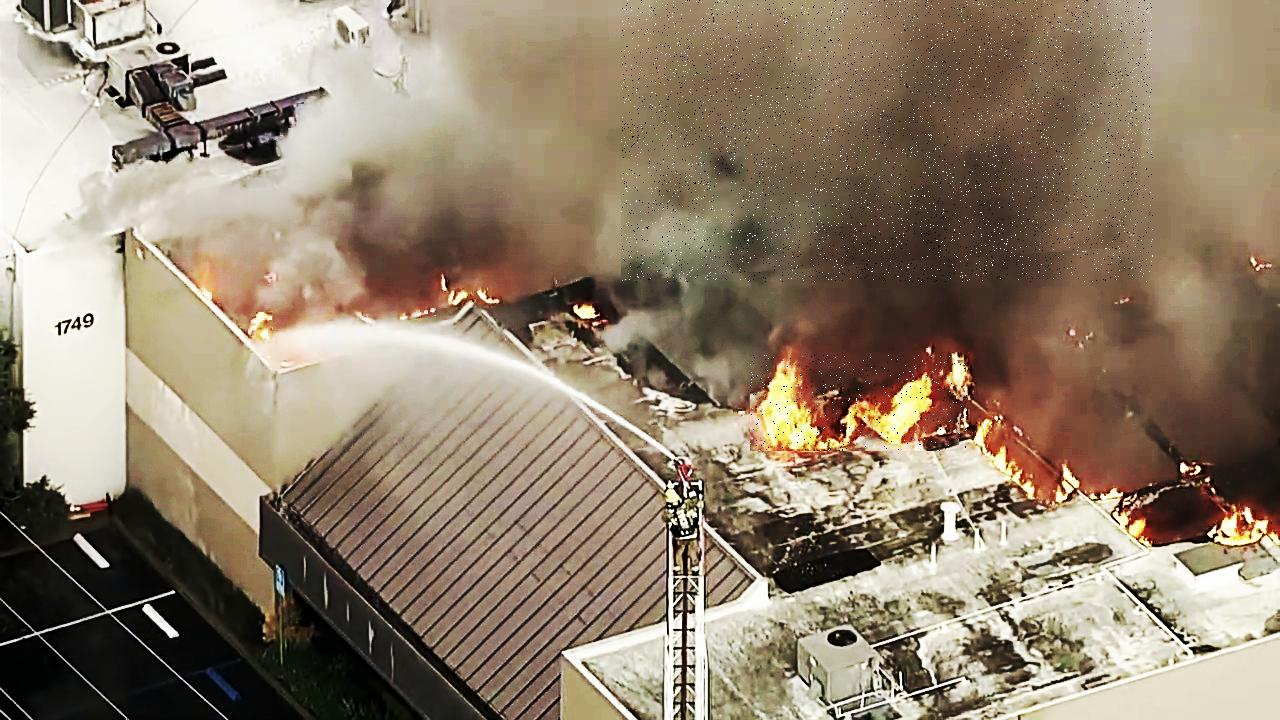fire: (750, 355, 967, 451)
smoke: (622, 0, 1154, 282)
